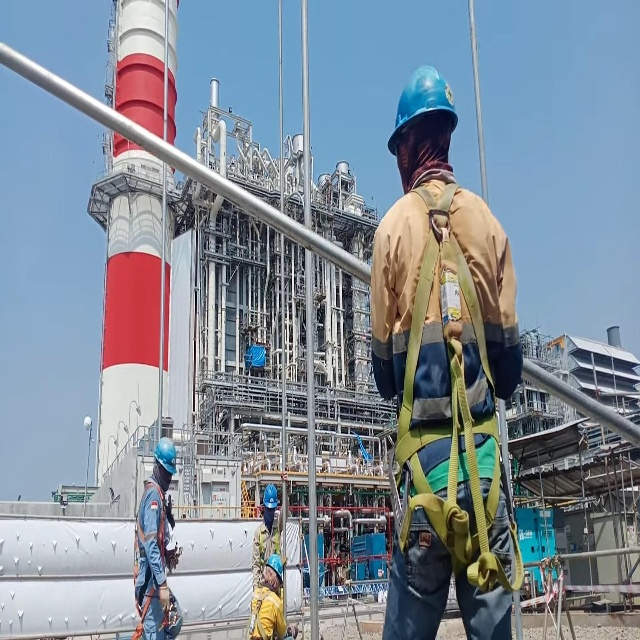Arnes_seguridad: (383, 168, 528, 598), (131, 481, 173, 640)
